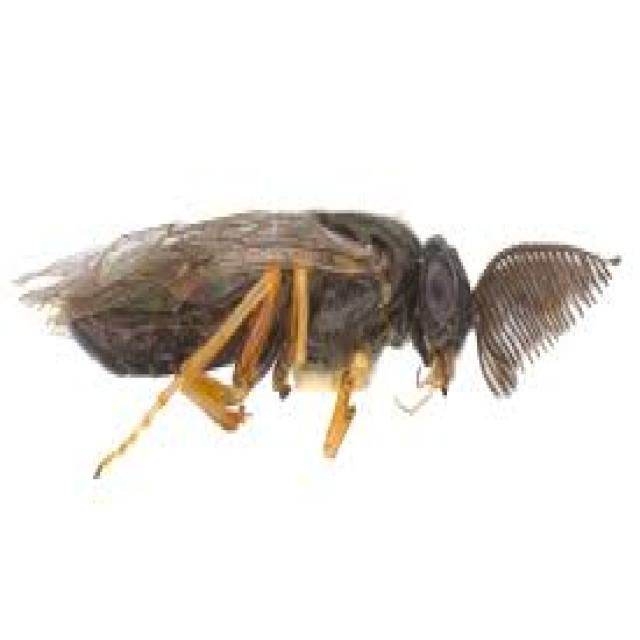Saw Fly: (11, 205, 612, 490)
